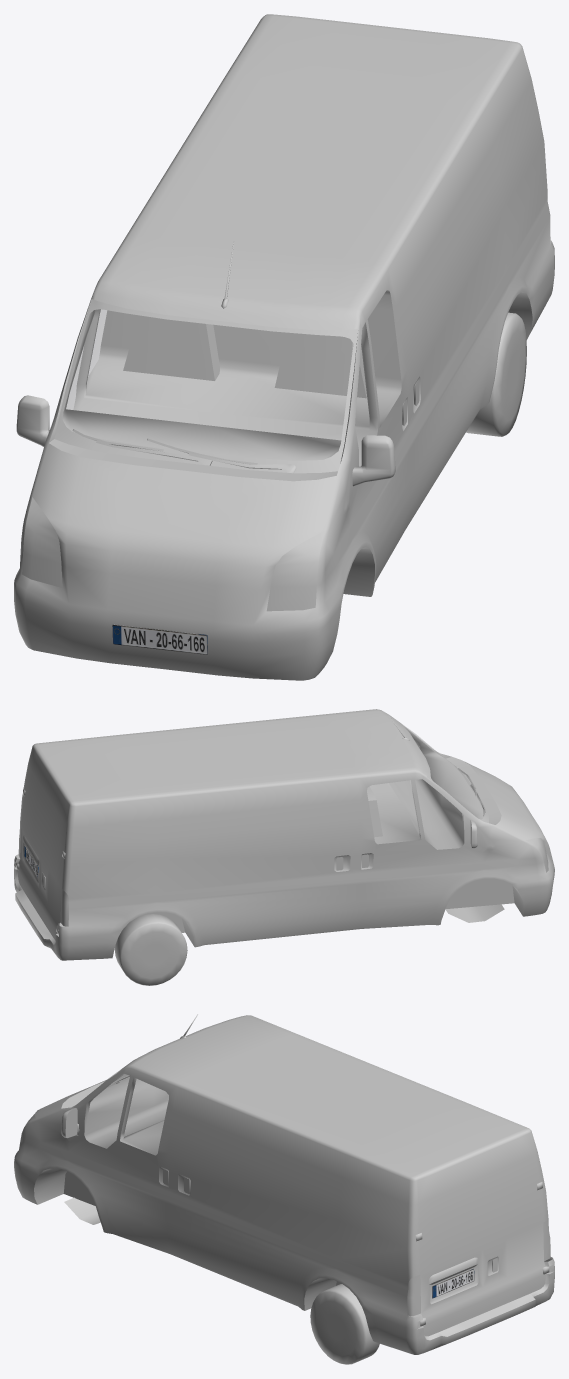
The model's file is van 003a_2012.dae.
3 views of the same model, one above another, from view 1: azimuth 30°, elevation 25°; view 2: azimuth 150°, elevation 25°; view 3: azimuth 270°, elevation 25° (orthographic). The views are drawn at different scales.
Visible parts, largest first — view 1: meshId2_name, van03a_gla_, van03a_wheel03_, meshId3_name; view 2: meshId2_name, van03a_gla_, van03a_wheel04_; view 3: meshId2_name, van03a_gla_, van03a_wheel03_, meshId3_name.
Boxes of the visible parts, left/top/right/bottom form: meshId2_name: left=14, top=14, right=554, bottom=680; van03a_gla_: left=63, top=290, right=401, bottom=466; van03a_wheel03_: left=466, top=312, right=526, bottom=436; meshId3_name: left=112, top=624, right=207, bottom=654; meshId2_name: left=14, top=709, right=554, bottom=960; van03a_gla_: left=367, top=724, right=482, bottom=849; van03a_wheel04_: left=114, top=914, right=187, bottom=985; meshId2_name: left=14, top=1014, right=554, bottom=1354; van03a_gla_: left=84, top=1069, right=168, bottom=1155; van03a_wheel03_: left=310, top=1284, right=379, bottom=1364; meshId3_name: left=432, top=1268, right=474, bottom=1298.
Size of the model in its own units: 0.4804 by 0.2255 by 0.4804.
